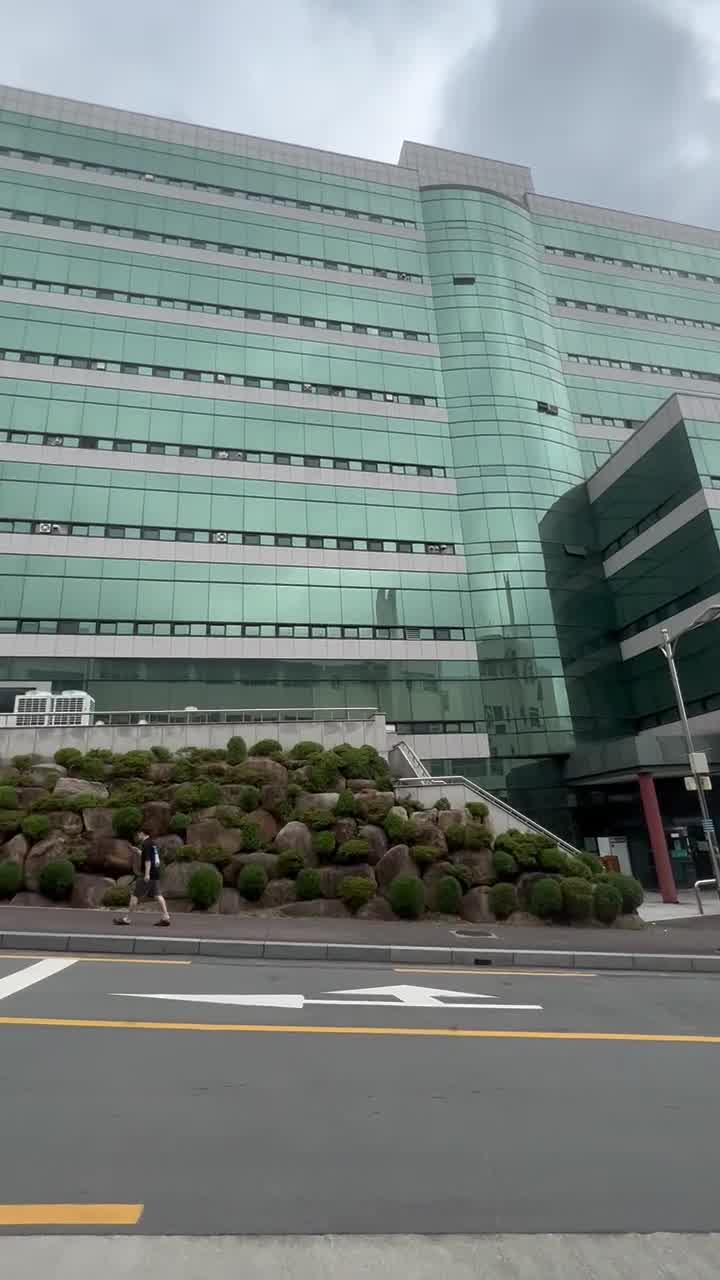building: (8, 92, 720, 704)
